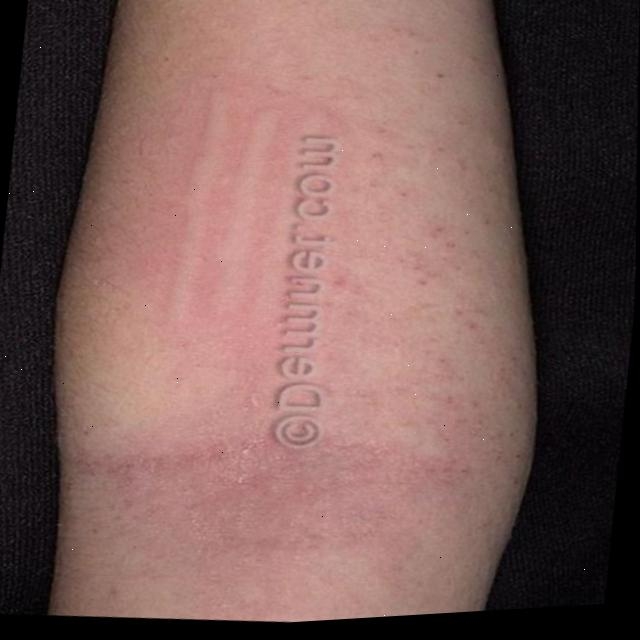Eczema: (73, 2, 509, 587)
